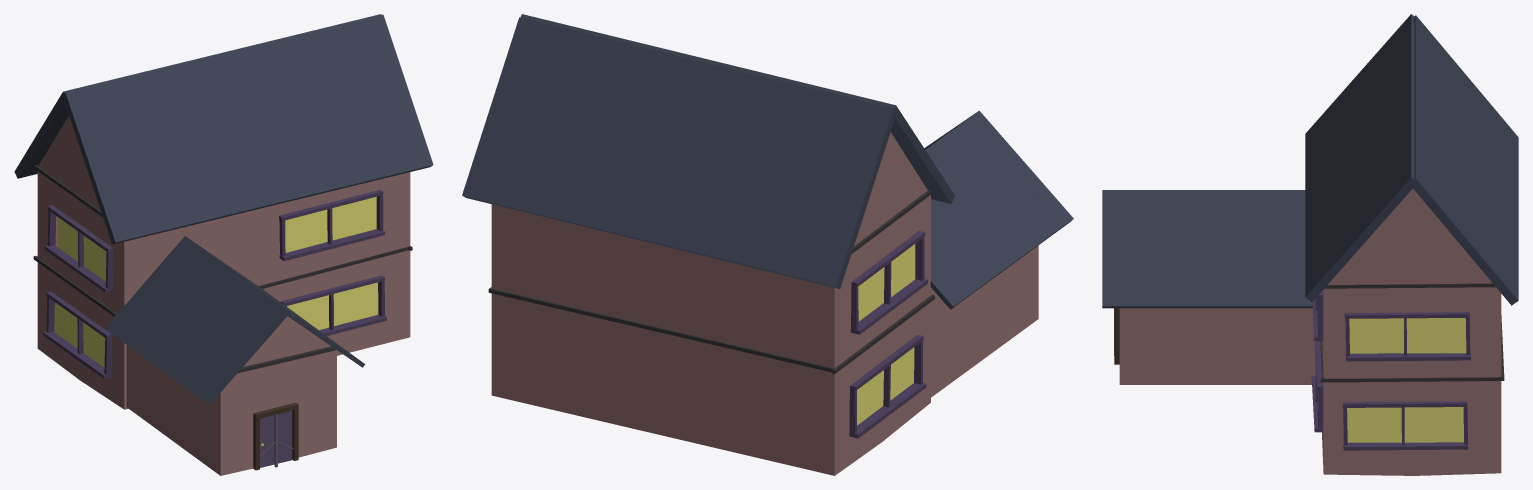
Rendered from House4.fbx.
The picture shows the model from 3 angles, left to right: view 1: azimuth 30°, elevation 25°; view 2: azimuth 150°, elevation 25°; view 3: azimuth 270°, elevation 25°; orthographic projection. The views are drawn at different scales.
Visible parts, largest first — view 1: Cube.005, Cube.001, Cube, Cube.002, Cube.054, Cube.055, Cube.004, Cube.009, Cube.043, Cube.042, Cube.003, Cube.050 (+10 smaller); view 2: Cube.001, Cube.004, Cube.002, Cube, Cube.005, Cube.015, Cube.043, Cube.042, Cube.020, Cube.032, Cube.031, Cube.019 (+1 smaller); view 3: Cube.001, Cube.003, Cube.005, Cube.004, Cube, Cube.040, Cube.041, Cube.024, Cube.028, Cube.014, Cube.023, Cube.027 (+1 smaller).
Boxes of the visible parts, x1,y1,x2,y2 form: Cube.005: (62,14,433,244); Cube.001: (37,116,410,409); Cube: (126,316,336,475); Cube.002: (105,236,289,404); Cube.054: (285,196,376,252); Cube.055: (287,282,378,330); Cube.004: (14,14,381,178); Cube.009: (260,410,292,467); Cube.043: (54,302,105,367); Cube.042: (57,217,106,281); Cube.003: (185,236,364,367); Cube.050: (279,229,385,261); Cube.001: (491,132,930,475); Cube.004: (462,17,896,288); Cube.002: (925,111,1073,309); Cube: (931,245,1038,397); Cube.005: (520,14,954,203); Cube.015: (489,288,833,372); Cube.043: (857,347,914,425); Cube.042: (858,244,915,321); Cube.020: (849,383,926,438); Cube.032: (850,279,927,334); Cube.031: (851,231,925,286); Cube.019: (850,334,923,390); Cube.001: (1322,188,1501,475); Cube.003: (1102,190,1312,308); Cube.005: (1305,14,1415,301); Cube.004: (1409,15,1518,305); Cube: (1119,308,1315,384); Cube.040: (1347,407,1463,442); Cube.041: (1349,318,1466,353); Cube.024: (1343,442,1468,450); Cube.028: (1346,353,1470,361); Cube.014: (1320,376,1504,382); Cube.023: (1342,401,1467,407); Cube.027: (1344,312,1469,318).
Bounding box in the file's own units: 1422 × 1224 × 1506.
